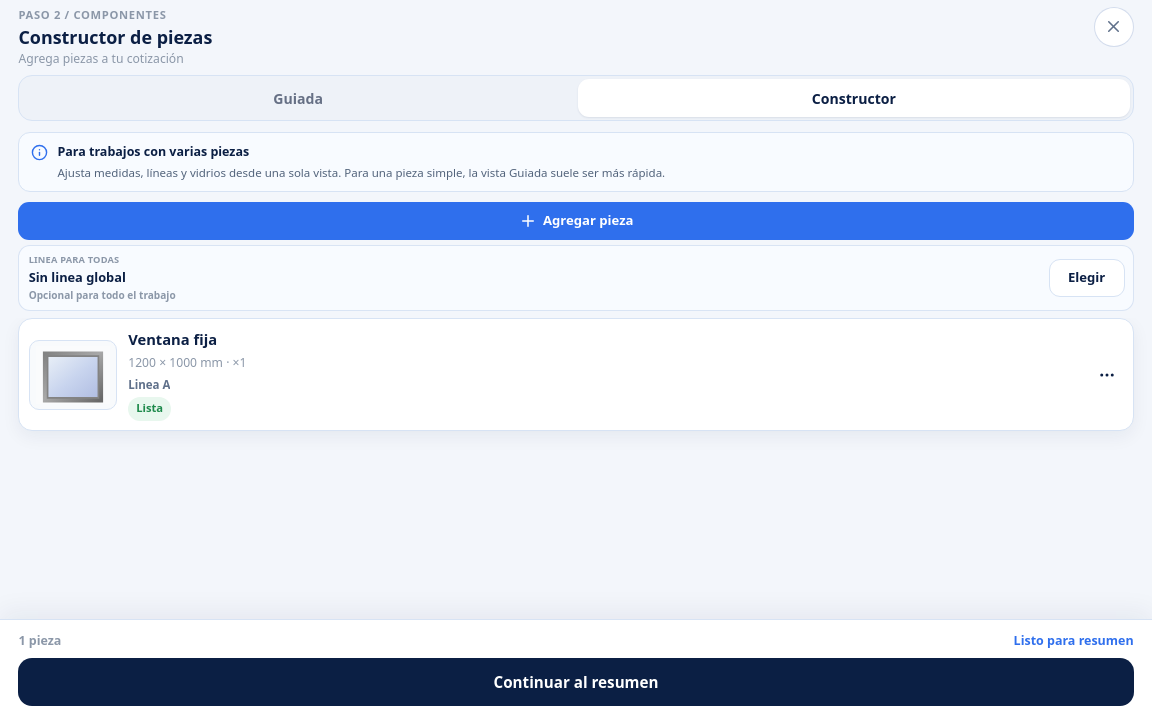
Test case: PasoDosCuadernoMovil › reserva la linea global para perfiles y no mezcla cristales
The width and height of the screenshot is (1152, 720).
Click the button "Elegir" at (1087, 278), box x1=1049 y1=259 x2=1125 y2=297
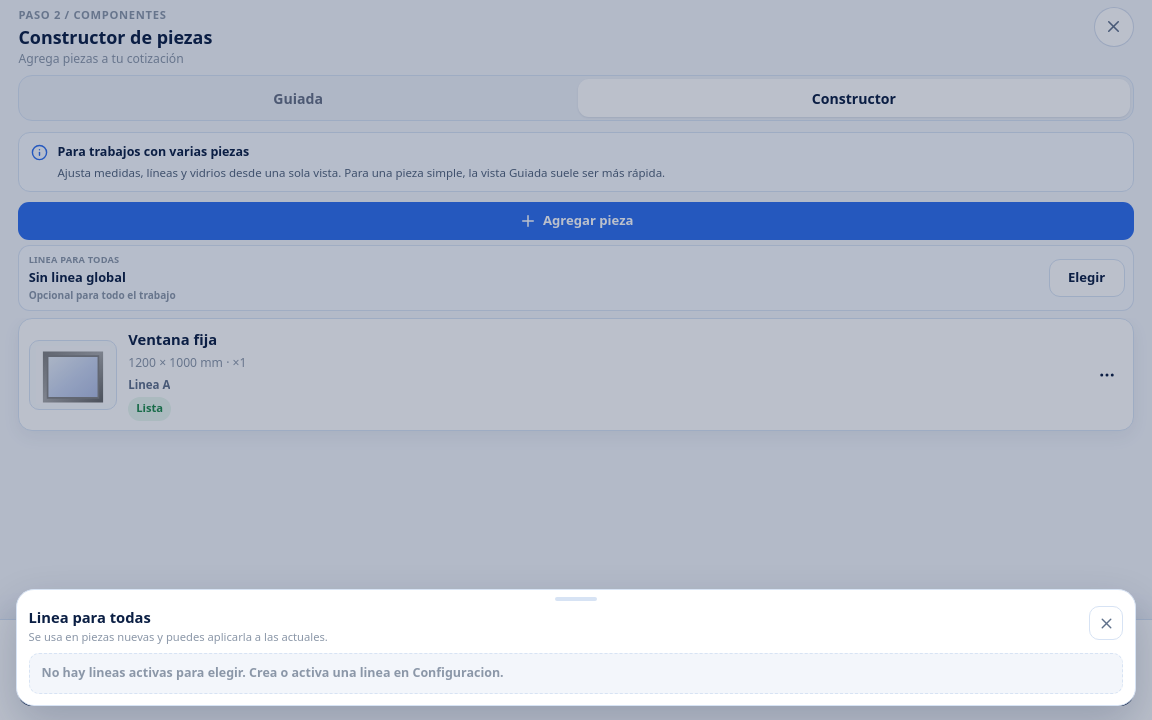
Expected: the text "No hay lineas activas" is shown, x1=42 y1=664 x2=504 y2=681
